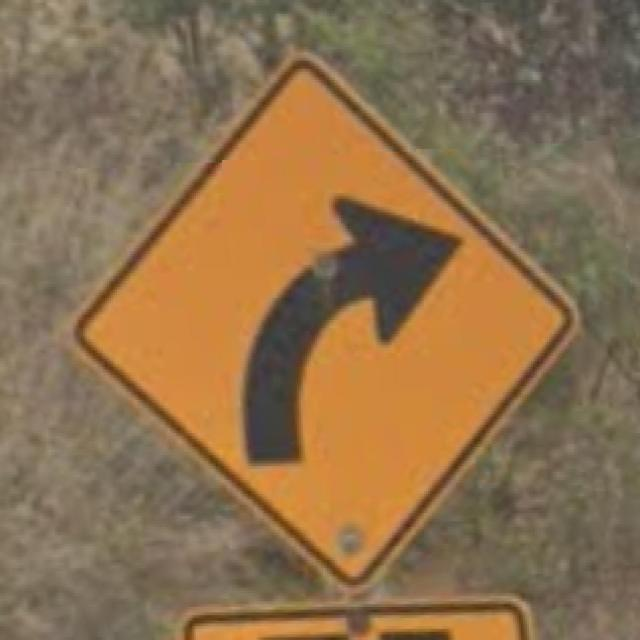Tikungan Ke Kanan: (61, 46, 580, 598)
